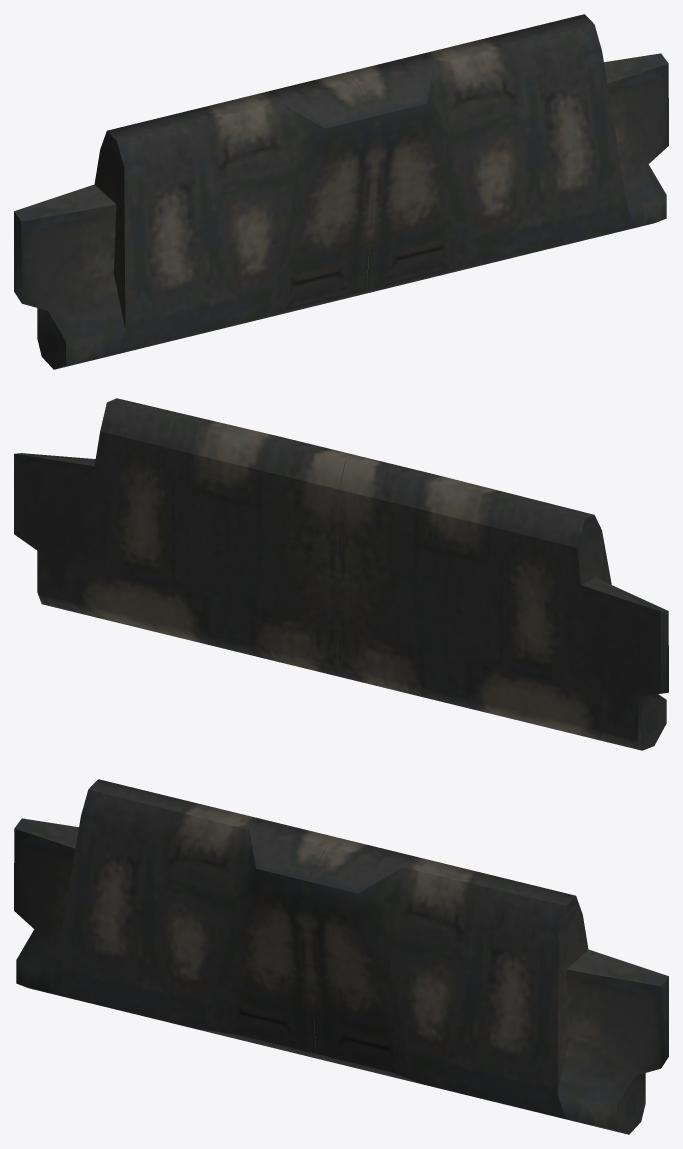
3 renders of one model, top to bottom at view 1: azimuth 30°, elevation 25°; view 2: azimuth 150°, elevation 25°; view 3: azimuth 330°, elevation 25°, orthographic.
Parts seen in each view (by area): view 1: set_0_group_0; view 2: set_0_group_0; view 3: set_0_group_0.
Boxes of the visible parts, box(x1,y1,x2,y2) form: set_0_group_0: box(14, 14, 668, 369); set_0_group_0: box(14, 398, 668, 750); set_0_group_0: box(14, 779, 668, 1134).
Size of the model in its own units: 0.6508 by 0.2095 by 0.0689.
1 material, 1 textured.
